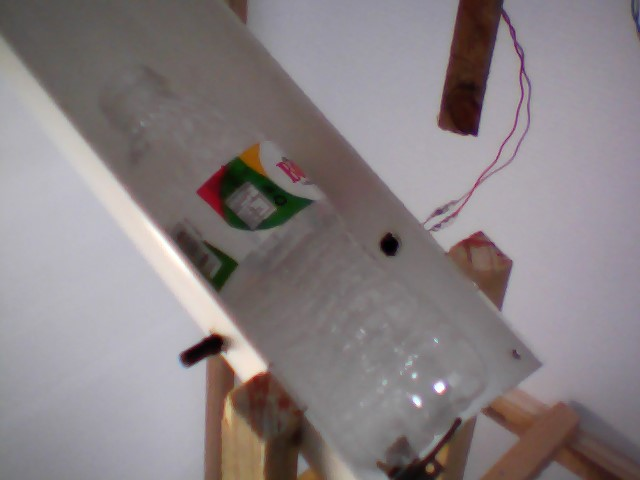plastico: (82, 66, 502, 480)
